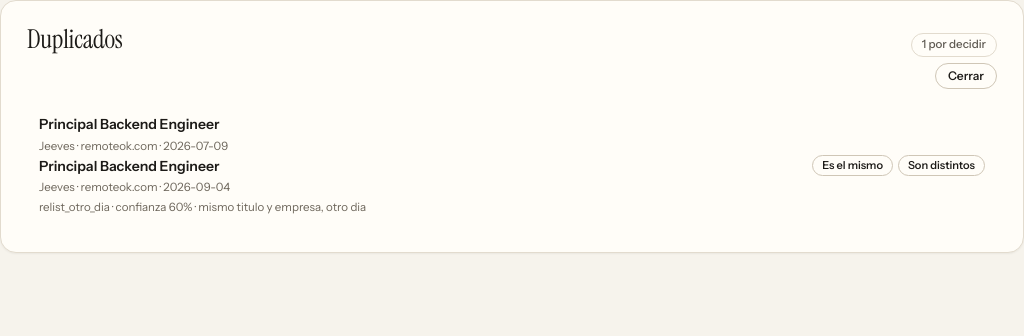
Duplicados (Fase 11 — no dead UI) › un 409 se muestra con el mensaje del backend, tal cual
This screenshot has width=1024, height=336.
Click the button "Son distintos" at x=941, y=166, box left=898, top=155, right=985, bottom=176
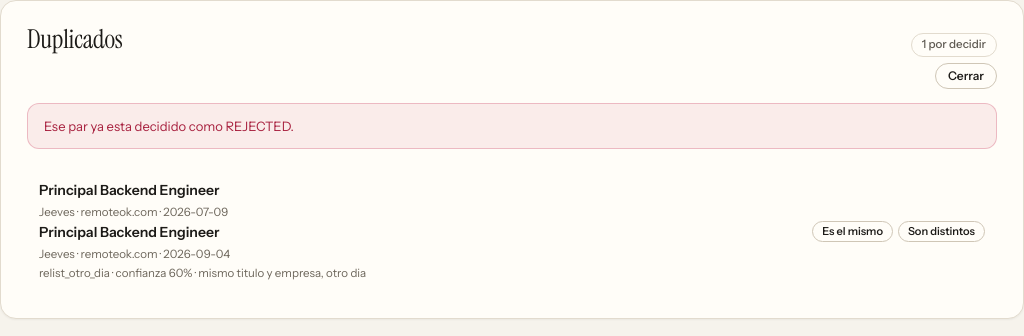
Expected: the text "Ese par ya esta decidido como REJECTED." is shown, left=27, top=103, right=997, bottom=149
